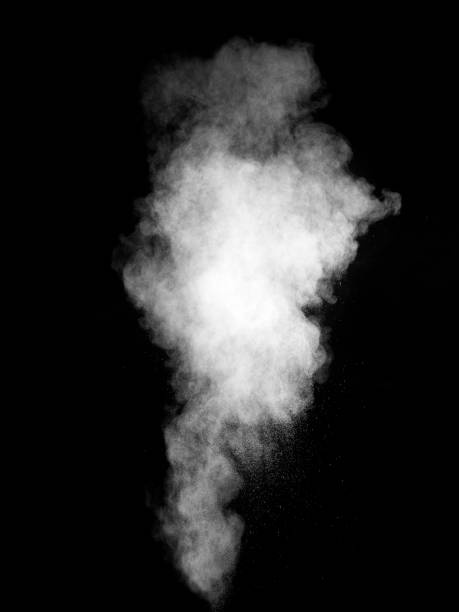smoke: (116, 36, 375, 580)
